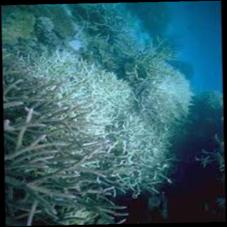bleached_corals: (2, 3, 194, 226)
